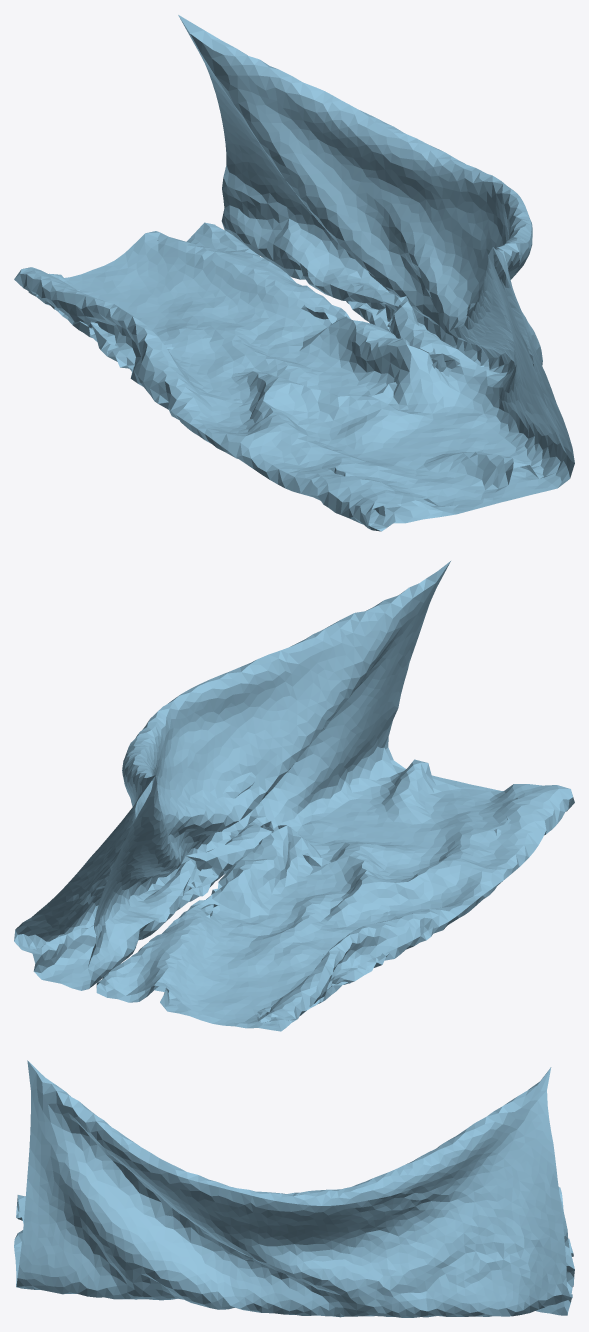
Rendered from frame_13.glb.
3 renders of one model, top to bottom at view 1: azimuth 30°, elevation 25°; view 2: azimuth 150°, elevation 25°; view 3: azimuth 270°, elevation 25°, orthographic. The views are drawn at different scales.
Parts seen in each view (by area): view 1: frame_13.obj; view 2: frame_13.obj; view 3: frame_13.obj.
Boxes of the visible parts, x1,y1,x2,y2 form: frame_13.obj: (14,15,574,531); frame_13.obj: (14,561,574,1031); frame_13.obj: (14,1060,574,1317).
Bounding box in the file's own units: 0.8852 × 0.6608 × 1.6.
